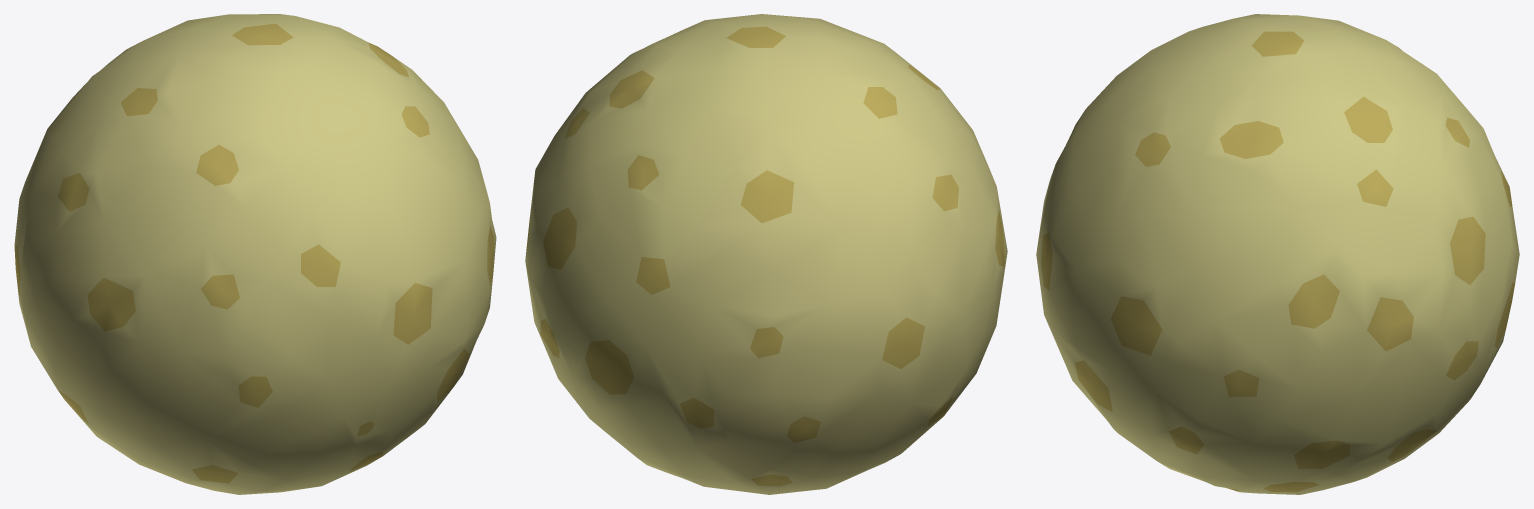
Rendered from Mercury.obj.
The picture shows the model from 3 angles, left to right: view 1: azimuth 30°, elevation 25°; view 2: azimuth 150°, elevation 25°; view 3: azimuth 270°, elevation 25°; orthographic projection.
Visible parts, largest first — view 1: Mercury; view 2: Mercury; view 3: Mercury.
Part boxes in pixels (x1,y1,x2,y2): Mercury: (14, 14, 496, 494); Mercury: (525, 14, 1007, 494); Mercury: (1036, 14, 1519, 494).
Bounding box in the file's own units: 16.84 × 16.73 × 16.91.
